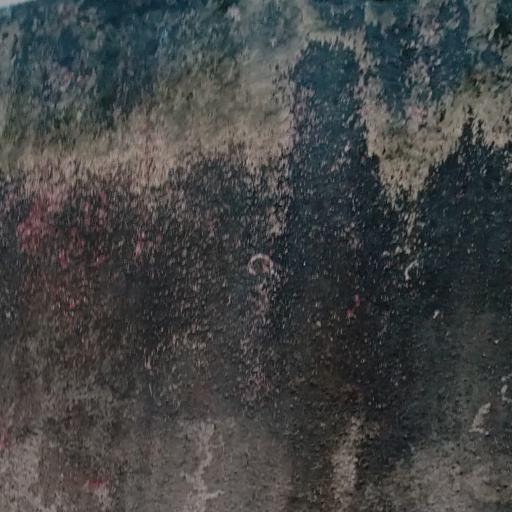algae: (15, 104, 512, 452)
